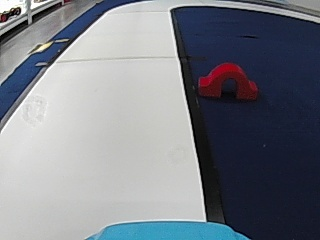bridge: (200, 63, 258, 100)
